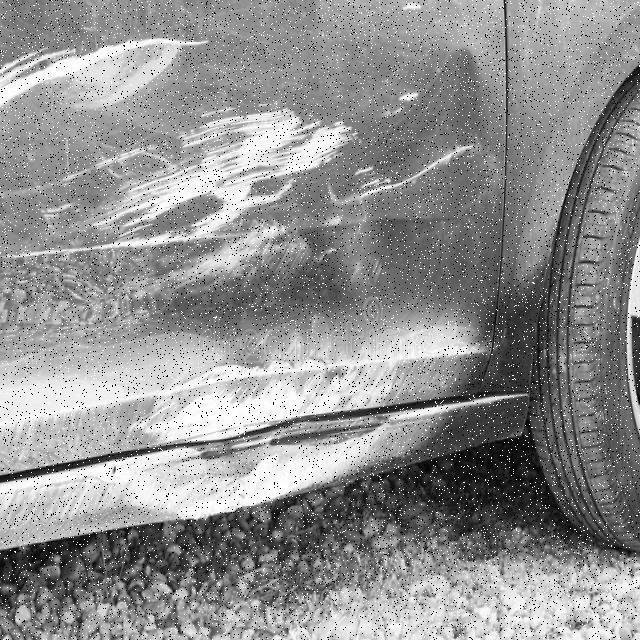Runningboard-Damage: (1, 415, 516, 513)
doorouter-dent: (0, 0, 492, 406)
